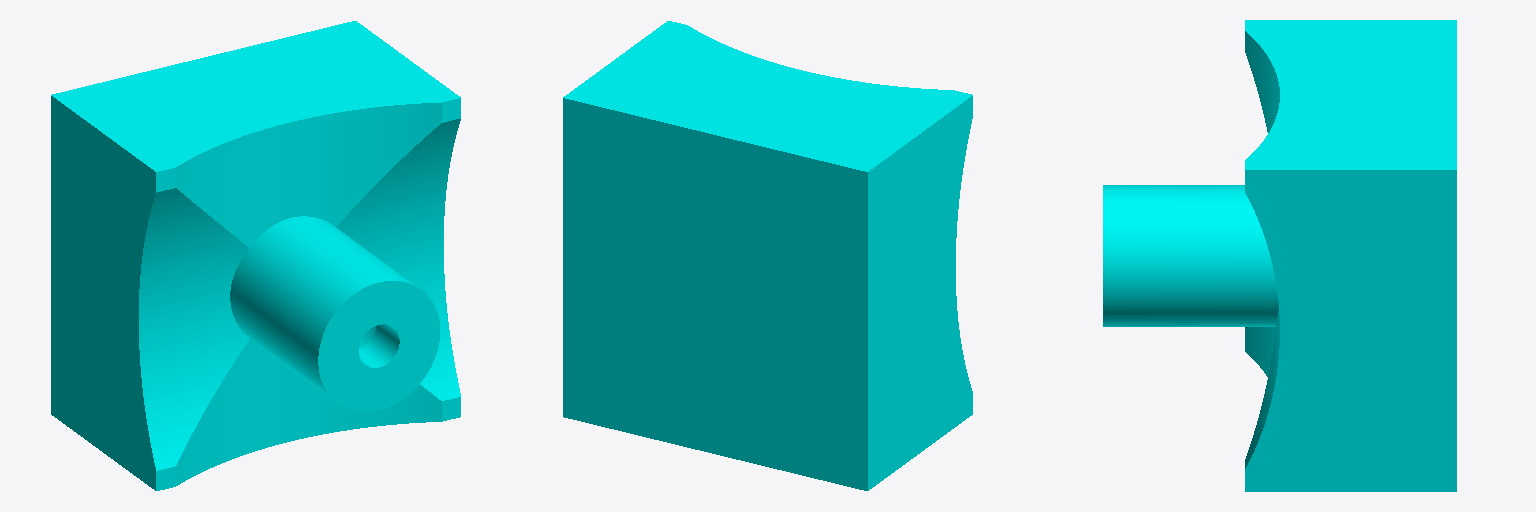
URDF robot description (centre03):
<robot name="centre03">
  <link name="centre03">
    <contact>
      <rolling_friction value="0.001"/>
      <spinning_friction value="0.001"/>
    </contact>
    <visual>
      <origin rpy="0 0 0" xyz="0 0 0"/>
      <geometry>
		<mesh filename="centre03.stl" scale="0.001 0.001 0.001"/>
      </geometry>
      <material name="cyan">
        <color rgba="0 1.0 1.0 1.0"/>
      </material>
    </visual>
    <collision>
      <origin rpy="0 0 0" xyz="0 0 0"/>
      <geometry>
	    <mesh filename="centre03.stl" scale="0.001 0.001 0.001"/>
      </geometry>
    </collision>
    </link>
</robot>

--- Facts derived from the render (not from the file) ---
Views: 3 orthographic renders of the robot side by side, from view 1: azimuth 30°, elevation 25°; view 2: azimuth 150°, elevation 25°; view 3: azimuth 270°, elevation 25°.
Model centre03 with 1 links and 0 joints (none), rooted at centre03, posed all joints at 0.
Visible links, largest first — view 1: centre03; view 2: centre03; view 3: centre03.
Boxes of the visible links, x1,y1,x2,y2 form: centre03: [51, 21, 460, 490]; centre03: [563, 21, 972, 490]; centre03: [1103, 20, 1456, 491].
Size in the robot's own frame: 0.019 by 0.0191 by 0.019 metres.
Meshes: 1 distinct files referenced, 1 mesh visuals loaded (1 binary STL).